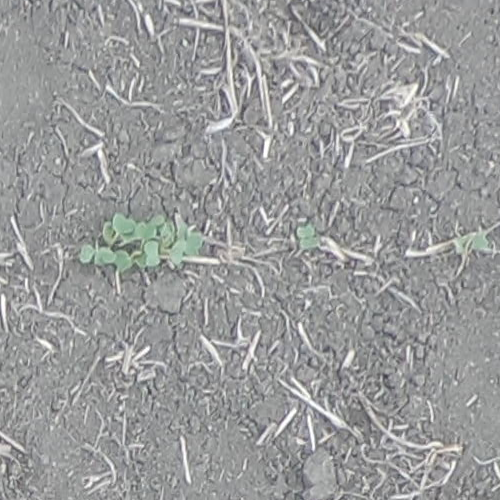plant: (79, 215, 150, 268), (151, 233, 207, 268), (455, 233, 489, 255), (298, 225, 318, 247)
